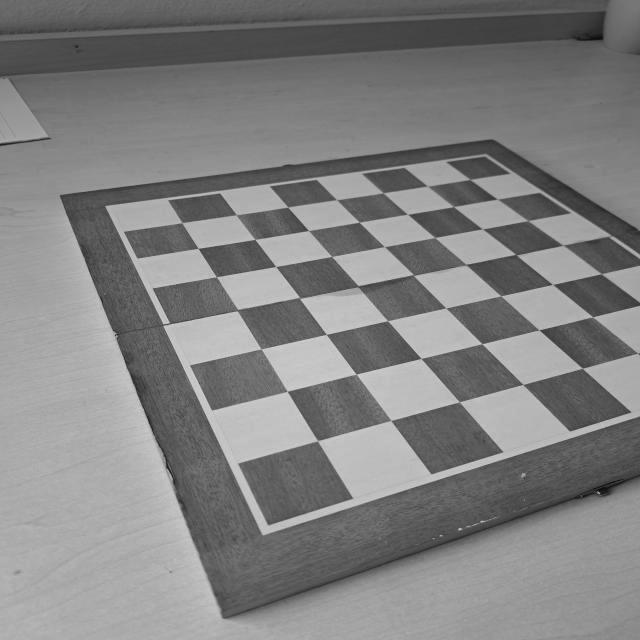chess-table-corners: (248, 509, 288, 539), (98, 200, 128, 220), (472, 150, 498, 164)
